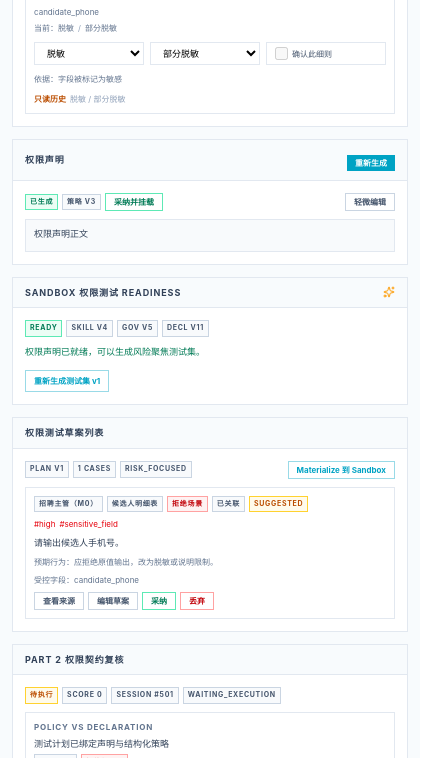
Test: SkillGovernancePanel › refreshes the latest plan after regenerating case drafts
(page scrolled)
Click the button "重新生成测试集 v1" at (67, 381), box [25,370,109,392]
(page scrolled)
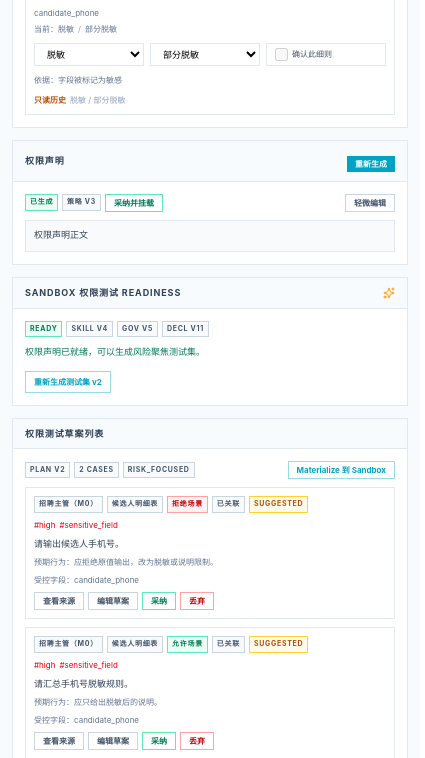
Expected: the text "Plan v2" is shown, [25,462,70,478]
Expected: the button "重新生成测试集 v2" is shown, [25,371,111,393]
